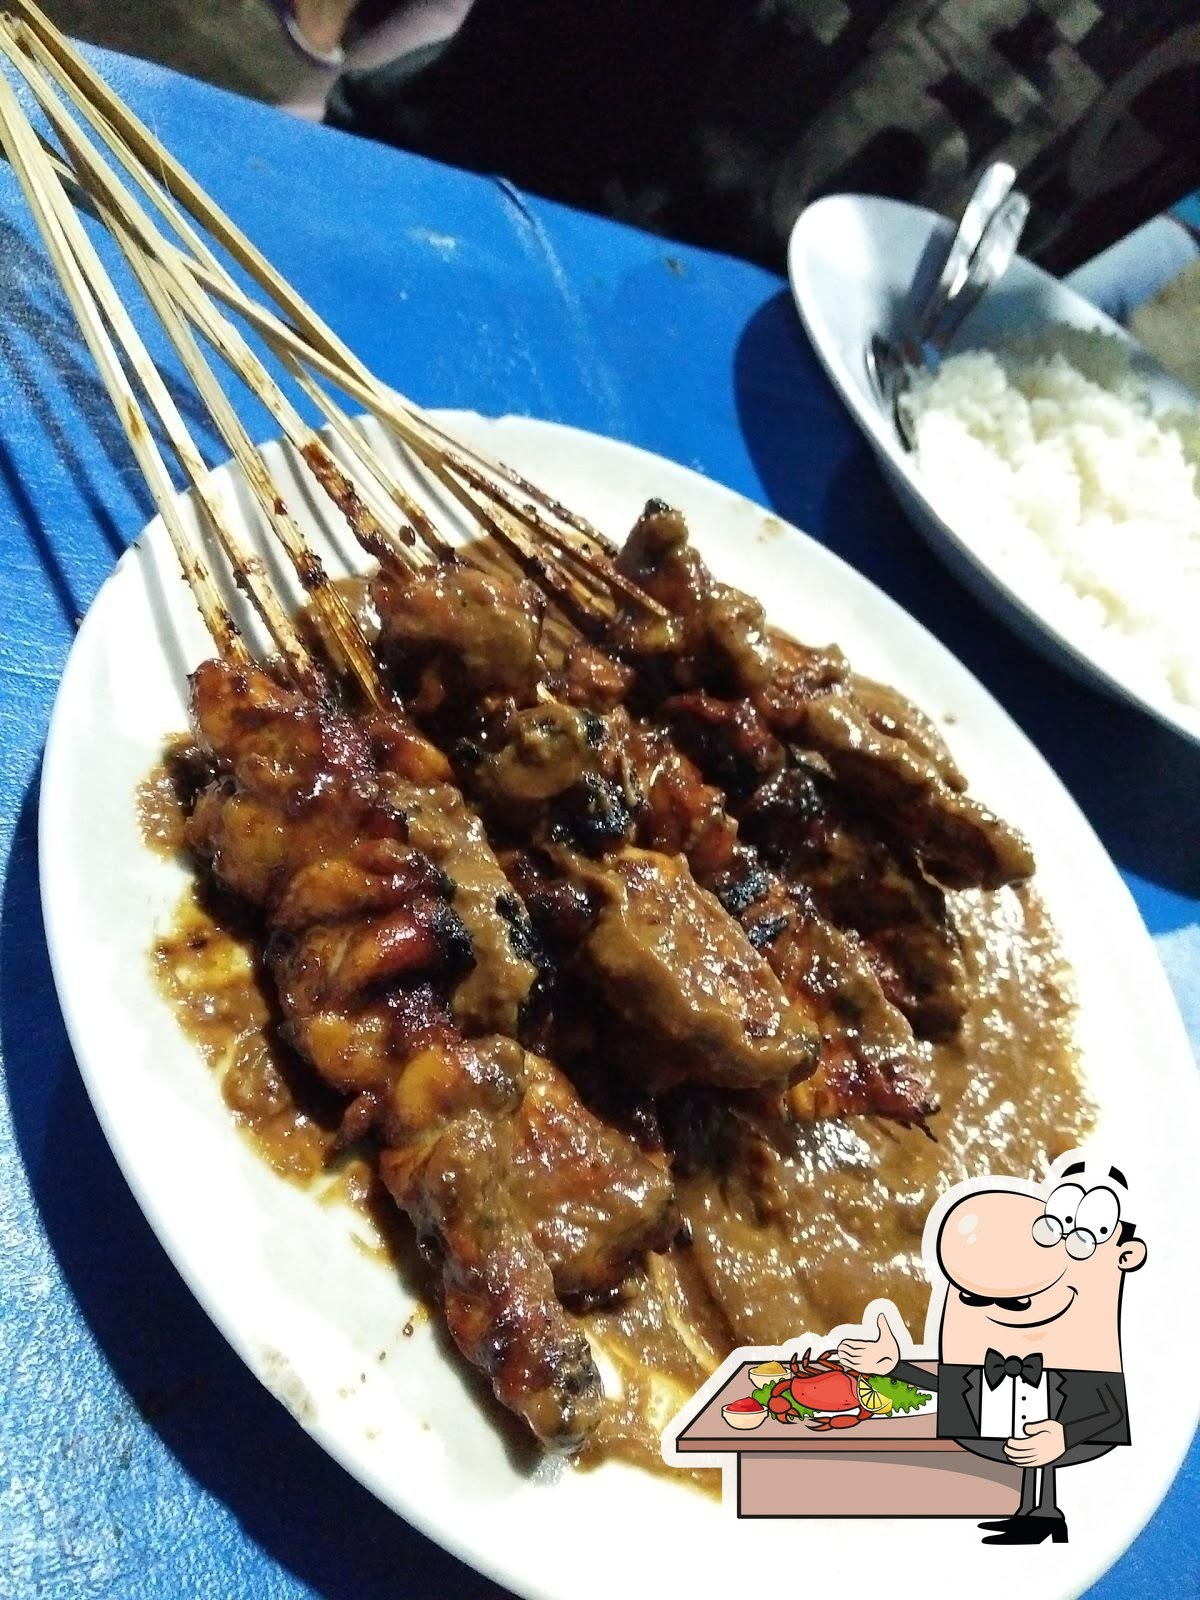sate_madura: (120, 372, 1001, 1351)
